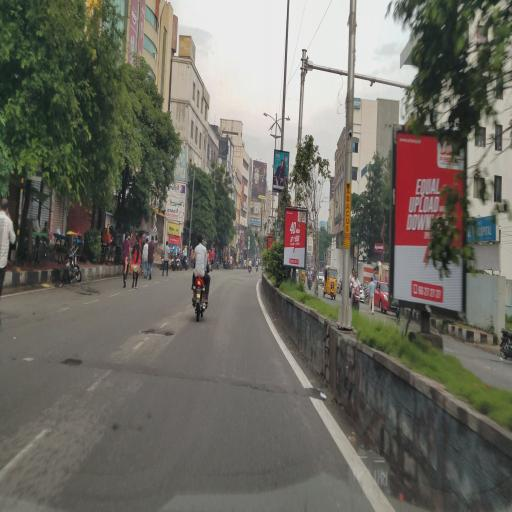street_light_0: (259, 103, 280, 129), (276, 111, 292, 137)
